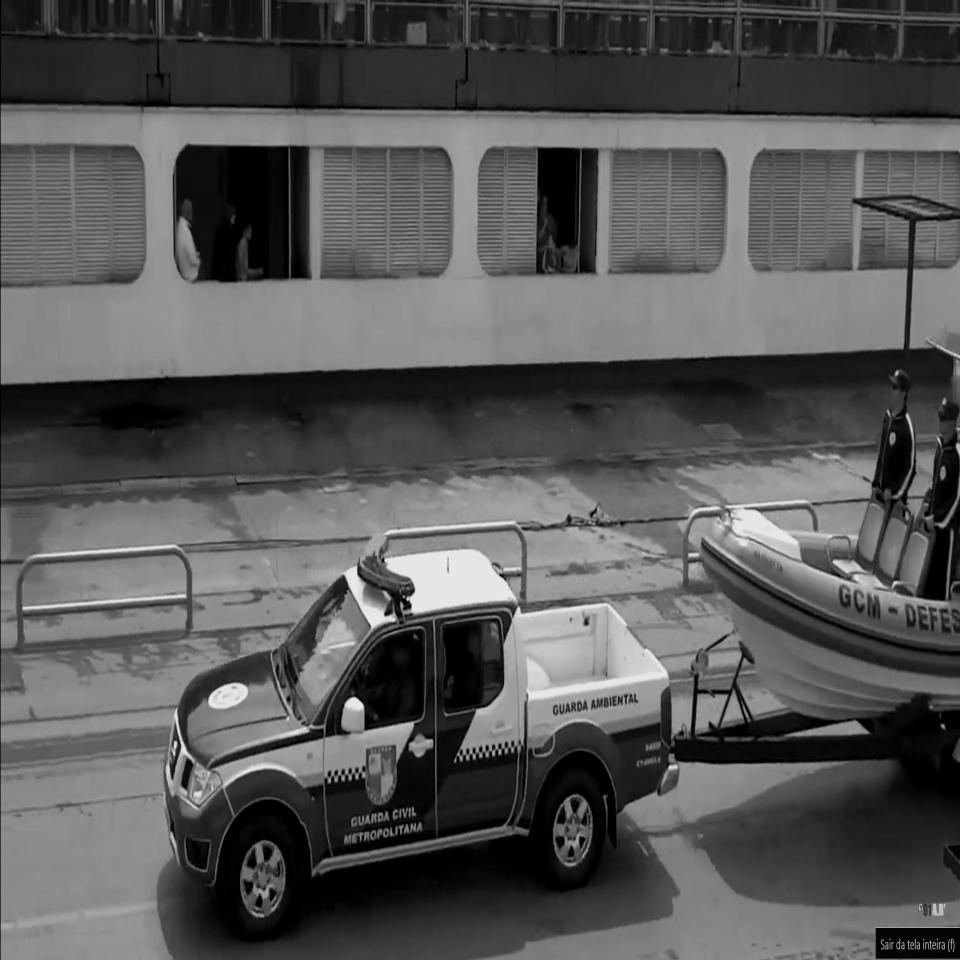viatura: (161, 528, 681, 944)
